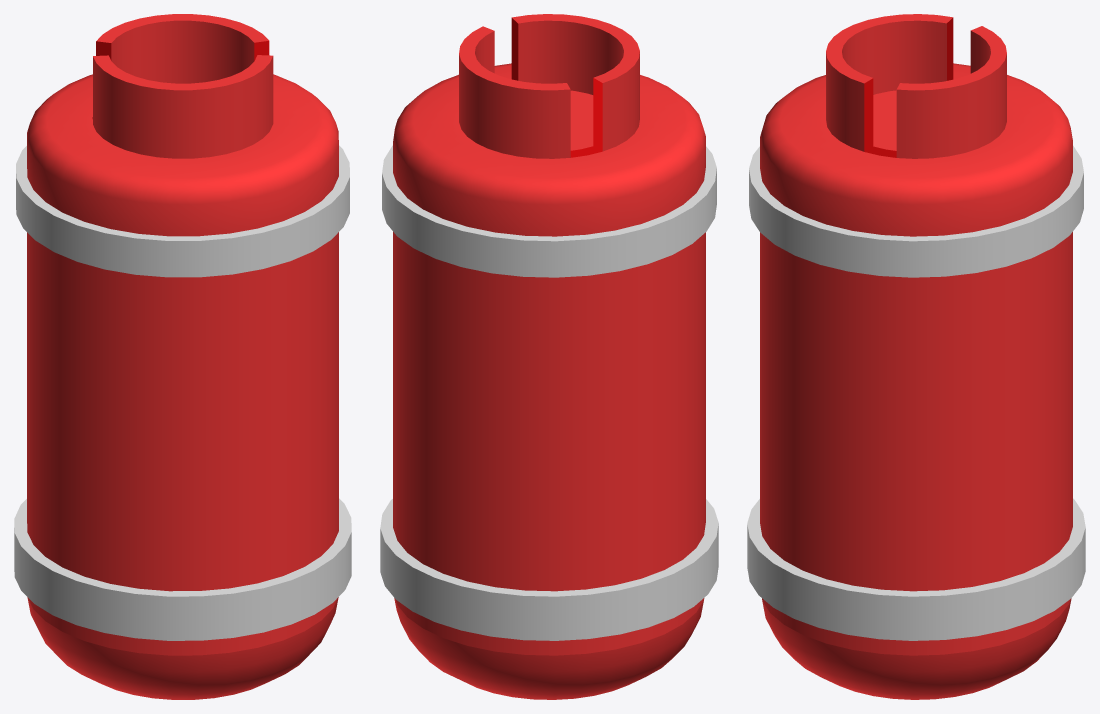
The model's file is Gas.fbx.
3 views of the same model, side by side, from view 1: azimuth 30°, elevation 25°; view 2: azimuth 150°, elevation 25°; view 3: azimuth 270°, elevation 25° (orthographic).
Parts seen in each view (by area): view 1: Gas; view 2: Gas; view 3: Gas.
Part boxes in pixels (left/top/right/bottom): Gas: left=14, top=14, right=351, bottom=699; Gas: left=380, top=14, right=718, bottom=699; Gas: left=747, top=14, right=1085, bottom=699.
Bounding box in the file's own units: 48.07 × 96.97 × 48.07.
